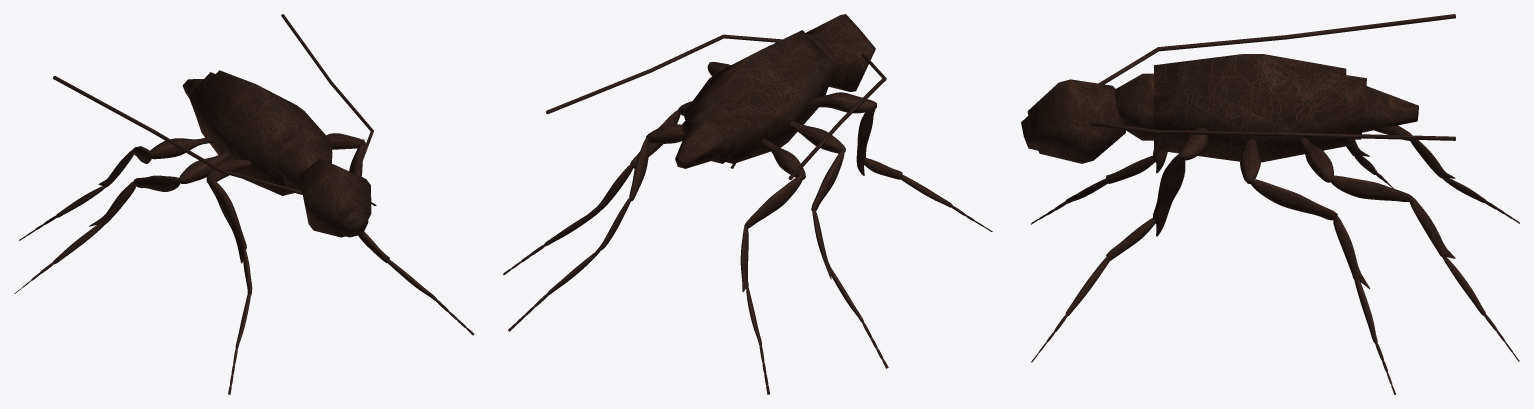
The model's file is Cockroach.fbx.
The picture shows the model from 3 angles, left to right: view 1: azimuth 30°, elevation 25°; view 2: azimuth 150°, elevation 25°; view 3: azimuth 270°, elevation 25°; orthographic projection. The views are drawn at different scales.
Parts seen in each view (by area): view 1: Cylinder; view 2: Cylinder; view 3: Cylinder.
Part boxes in pixels (x1,y1,x2,y2): Cylinder: (14,14,474,394); Cylinder: (503,14,992,394); Cylinder: (1021,14,1519,394).
Size of the model in its own units: 0.1166 by 0.1197 by 0.0639.
